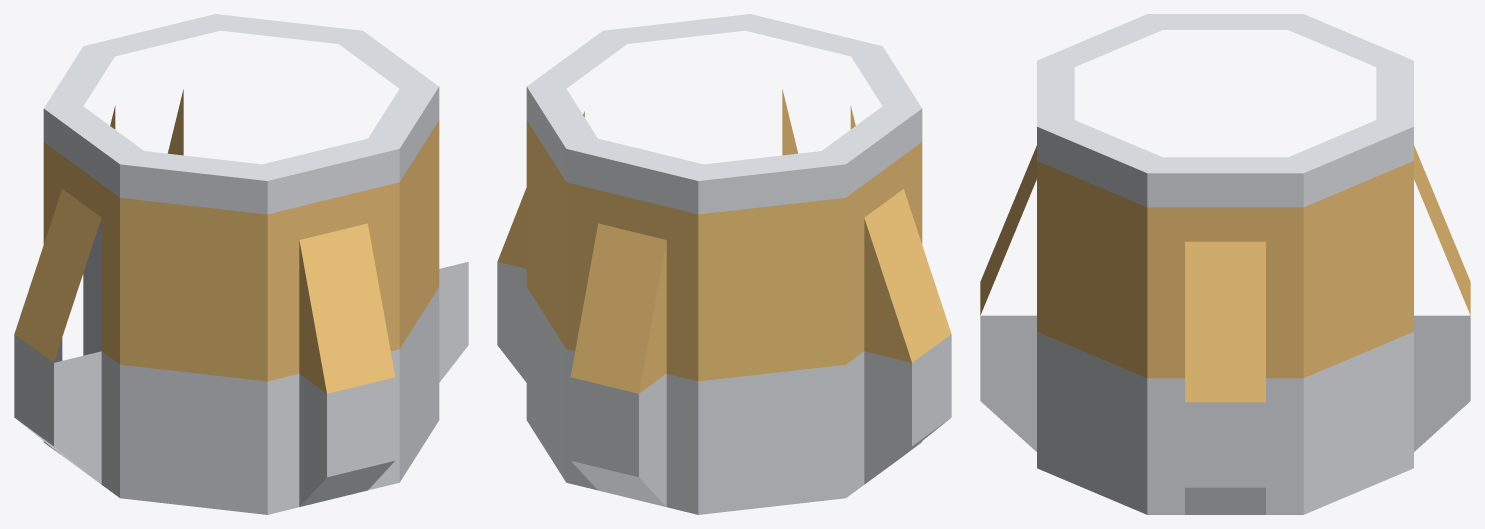
The model's file is rocket_sidesb_lev1.glb.
The picture shows the model from 3 angles, left to right: view 1: azimuth 30°, elevation 25°; view 2: azimuth 150°, elevation 25°; view 3: azimuth 270°, elevation 25°; orthographic projection. The views are drawn at different scales.
Visible parts, largest first — view 1: rocket_sidesb_lev1; view 2: rocket_sidesb_lev1; view 3: rocket_sidesb_lev1.
Part boxes in pixels (x1,y1,x2,y2): rocket_sidesb_lev1: (14,14,468,514); rocket_sidesb_lev1: (497,14,951,514); rocket_sidesb_lev1: (980,14,1470,514).
Size of the model in its own units: 1.3 by 1 by 1.3.
